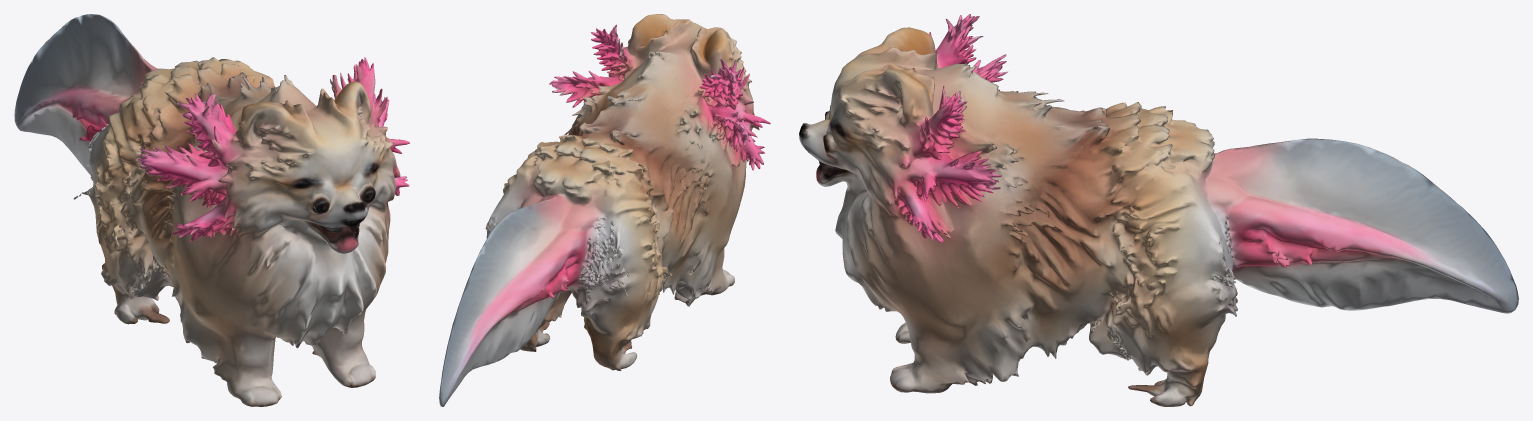
Rendered from pom-axolotl.glb.
3 renders of one model, left to right at view 1: azimuth 30°, elevation 25°; view 2: azimuth 150°, elevation 25°; view 3: azimuth 270°, elevation 25°, orthographic. The views are drawn at different scales.
Parts seen in each view (by area): view 1: Mesh_0; view 2: Mesh_0; view 3: Mesh_0.
Boxes of the visible parts, <box> form: Mesh_0: <box>14,14,409,406</box>; Mesh_0: <box>439,14,770,406</box>; Mesh_0: <box>799,14,1518,406</box>.
Bounding box in the file's own units: 0.4045 × 0.4861 × 0.9913.
Materials: 1 (1 with a texture image).
